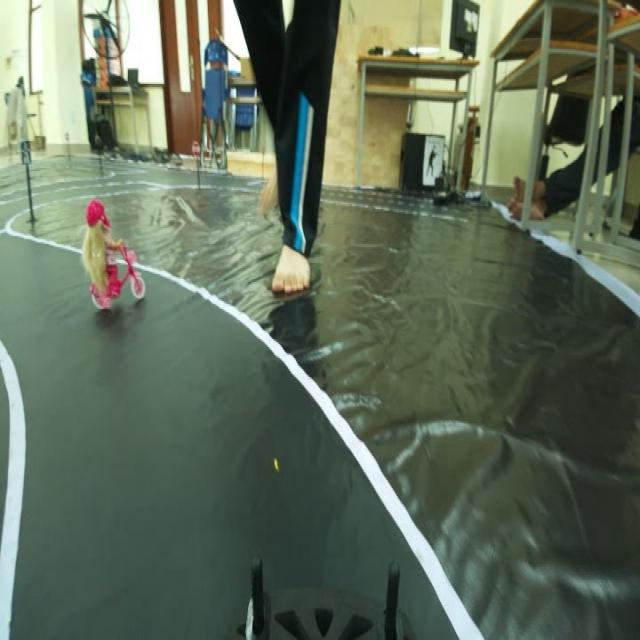pedestrian: (67, 193, 150, 301)
